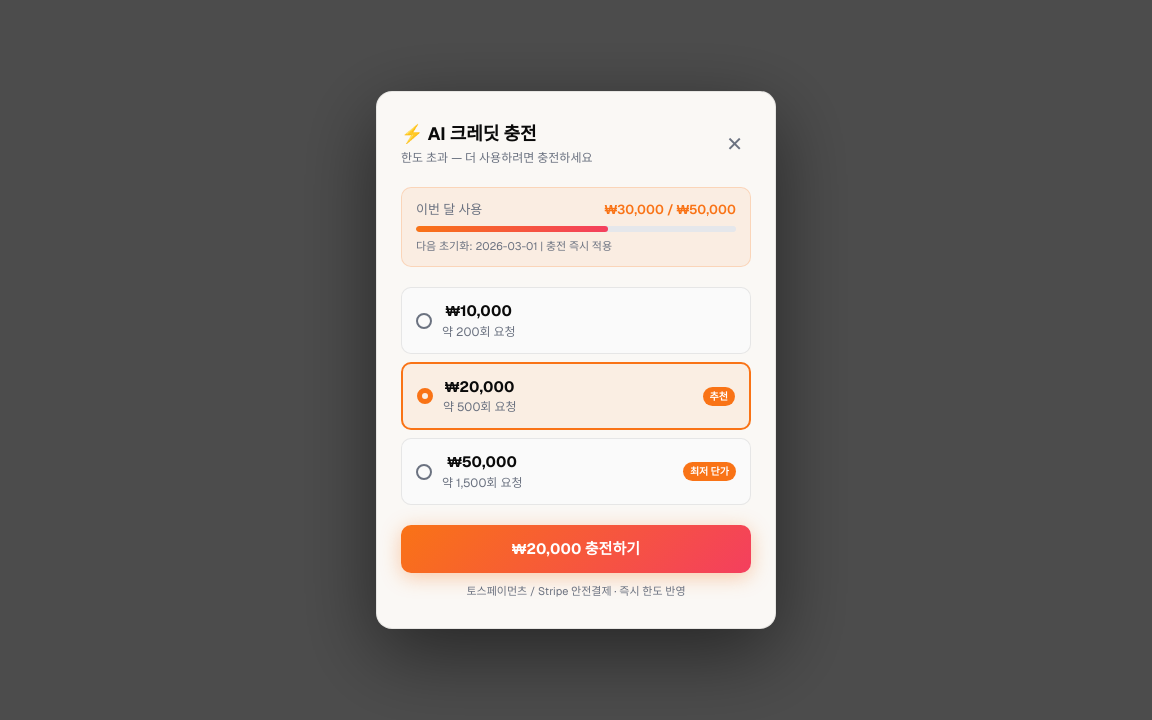
Test: TopUpModal › selects an option when clicked and updates charge button
This screenshot has width=1152, height=720.
Expected: the button "₩20,000 충전하기" is shown, [401, 525, 751, 573]
Note: ₩10,000 버튼 클릭
Click the button "₩10,000 약 200회 요청".
click(479, 311)  # box [401, 287, 751, 354]
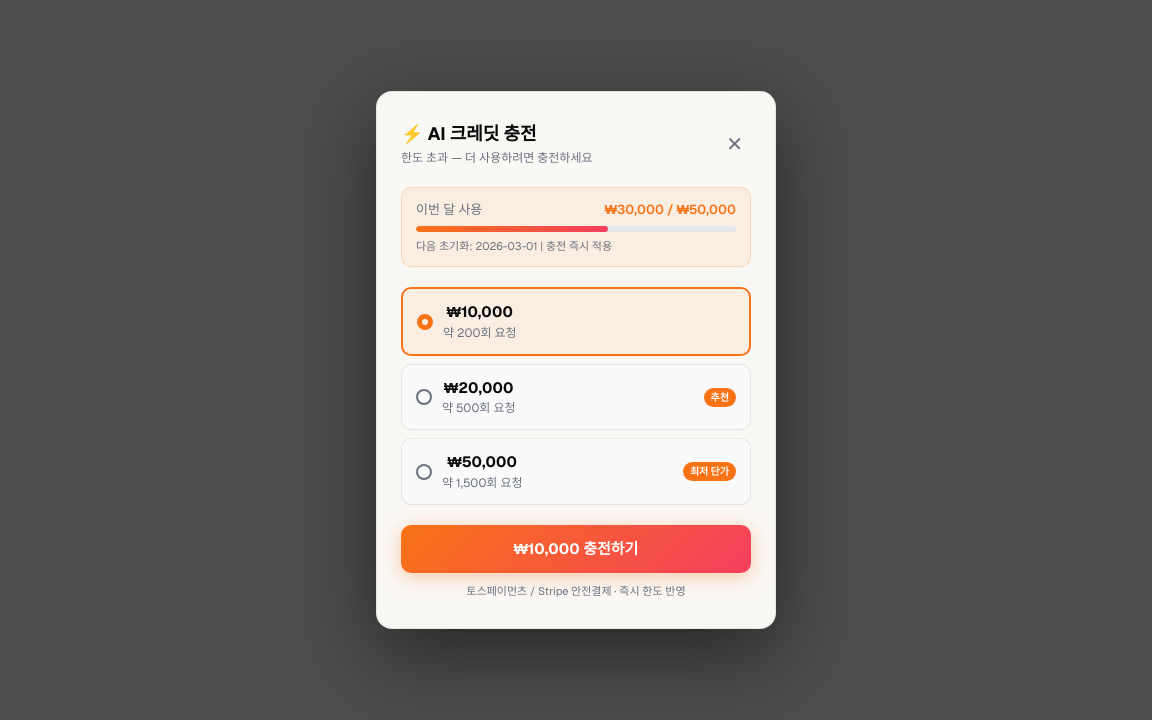
Result: the button "₩10,000 충전하기" is shown at [401, 525, 751, 573]
